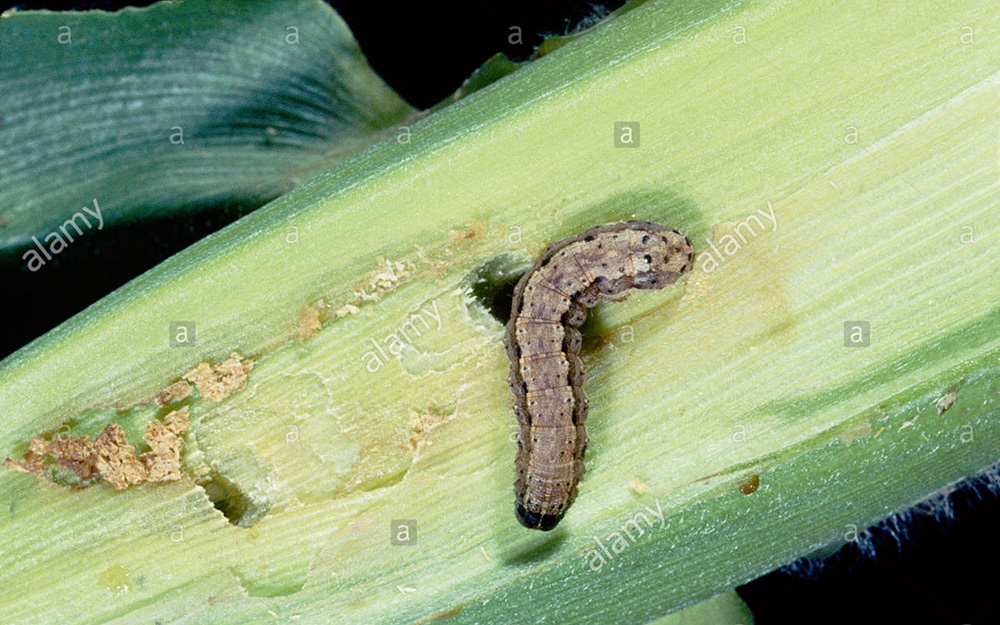Armyworm: (485, 163, 688, 560)
